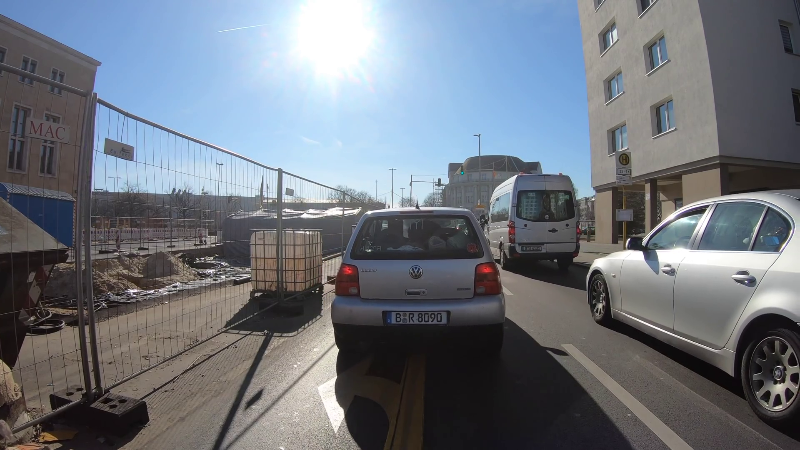Plate: (381, 310, 449, 326), (519, 243, 544, 251)
